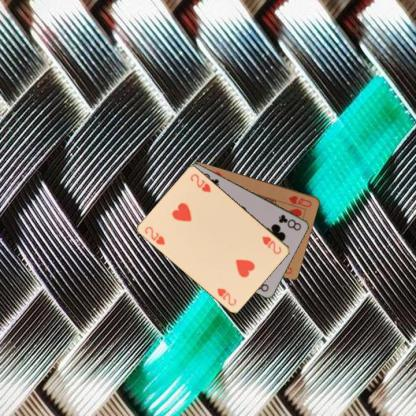2h: (260, 233, 282, 256), (143, 224, 166, 246)
8c: (275, 212, 302, 232)
Qh: (286, 193, 313, 209)
